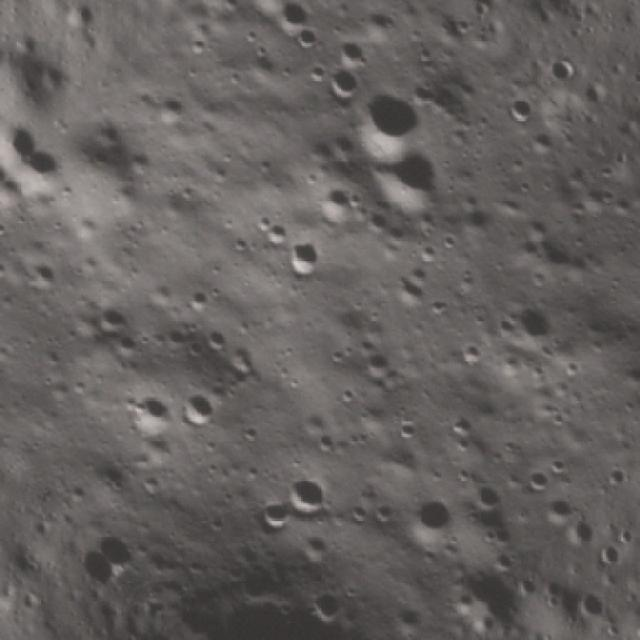crater: (356, 129, 461, 233), (333, 73, 436, 176), (490, 288, 568, 366), (397, 484, 471, 558), (116, 376, 186, 446), (291, 571, 358, 638), (304, 172, 370, 240), (273, 460, 339, 528), (242, 486, 306, 549), (14, 138, 75, 200), (274, 228, 335, 290), (86, 518, 146, 578), (323, 22, 383, 82), (352, 337, 410, 395), (261, 0, 324, 49), (84, 290, 139, 345), (171, 381, 226, 436), (248, 208, 302, 262), (382, 592, 441, 640), (16, 253, 67, 304), (463, 472, 514, 523), (495, 87, 542, 135), (532, 484, 580, 531), (517, 460, 560, 502), (623, 364, 640, 430), (627, 261, 640, 347), (238, 0, 296, 17)
